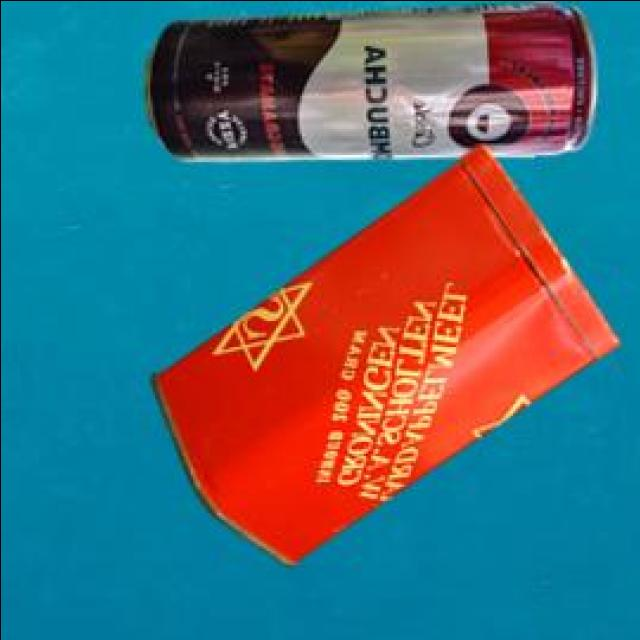logam: (148, 148, 615, 570), (143, 6, 591, 165)
